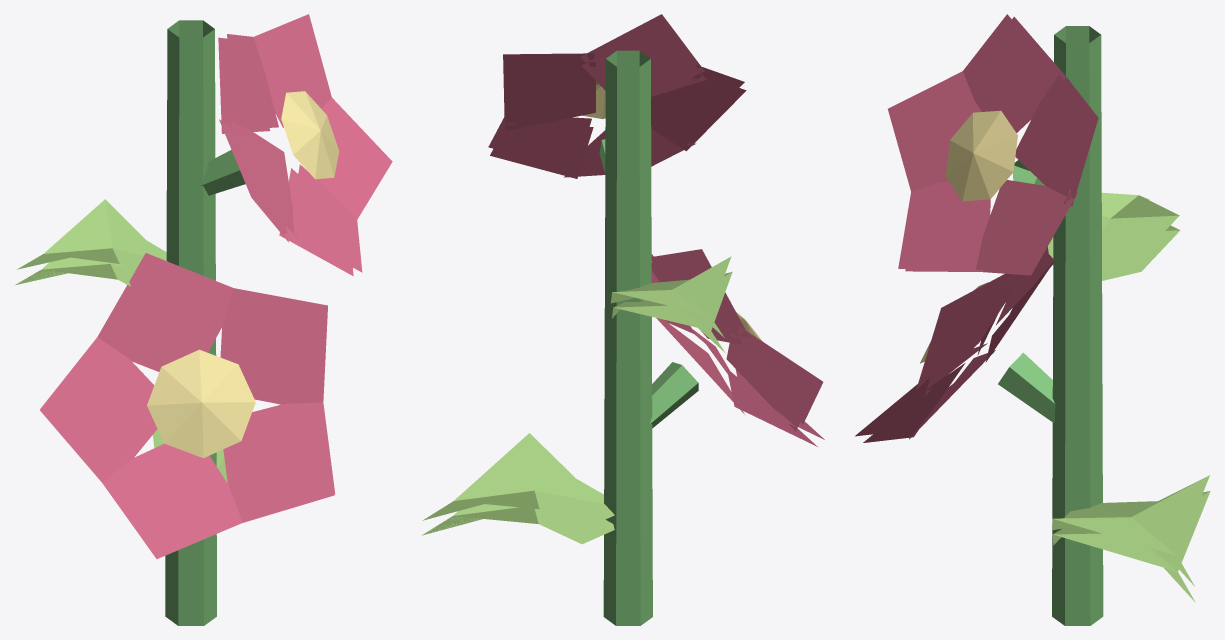
File: stem.glb
The picture shows the model from 3 angles, left to right: view 1: azimuth 30°, elevation 25°; view 2: azimuth 150°, elevation 25°; view 3: azimuth 270°, elevation 25°; orthographic projection. The views are drawn at different scales.
Visible parts, largest first — view 1: 节; view 2: 节; view 3: 节.
Part boxes in pixels (box(x1,y1,x2,y2)): 节: box(15, 14, 392, 625); 节: box(422, 14, 824, 625); 节: box(855, 14, 1210, 625).
Bounding box in the file's own units: 0.1884 × 0.3107 × 0.1665.
